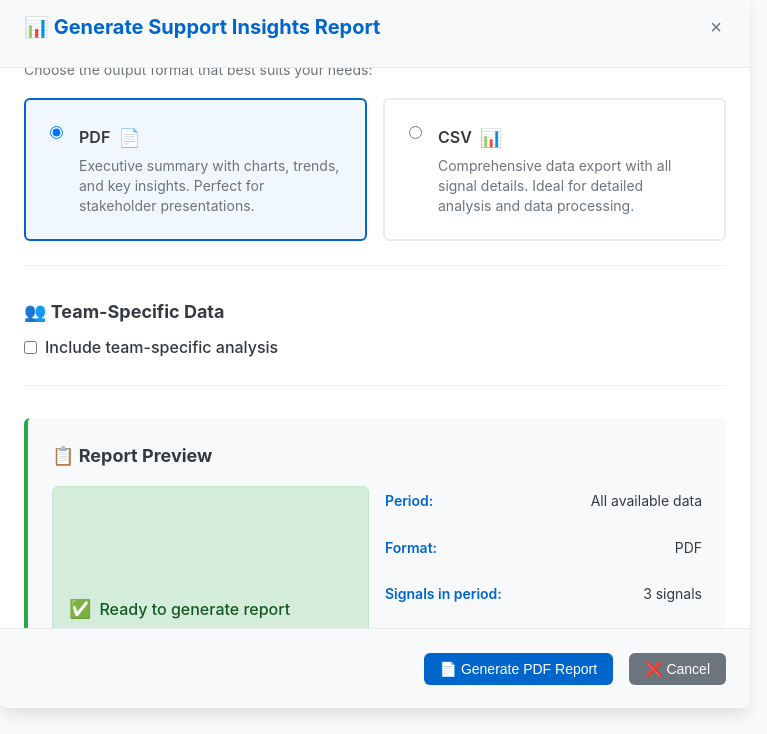
Scenario: ReportGenerationModal › Accessibility › has proper form labels
(page scrolled)
First enable team data to show the team selector
Click the checkbox labelled "Include team-specific analysis" at (30, 348), box [24,341,37,354]
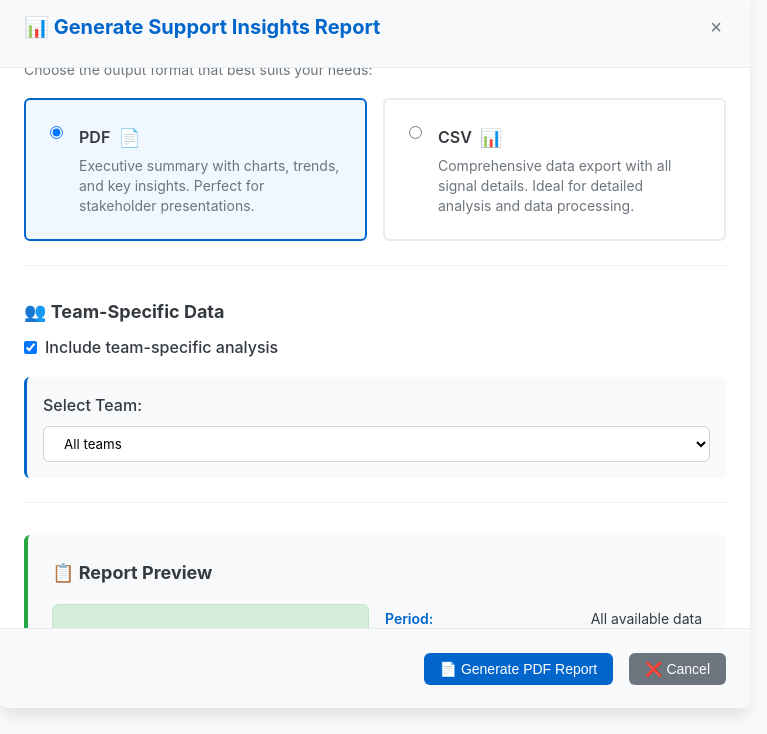
Now the dropdown labelled "Select Team:" is shown, box [43,426,710,462]
